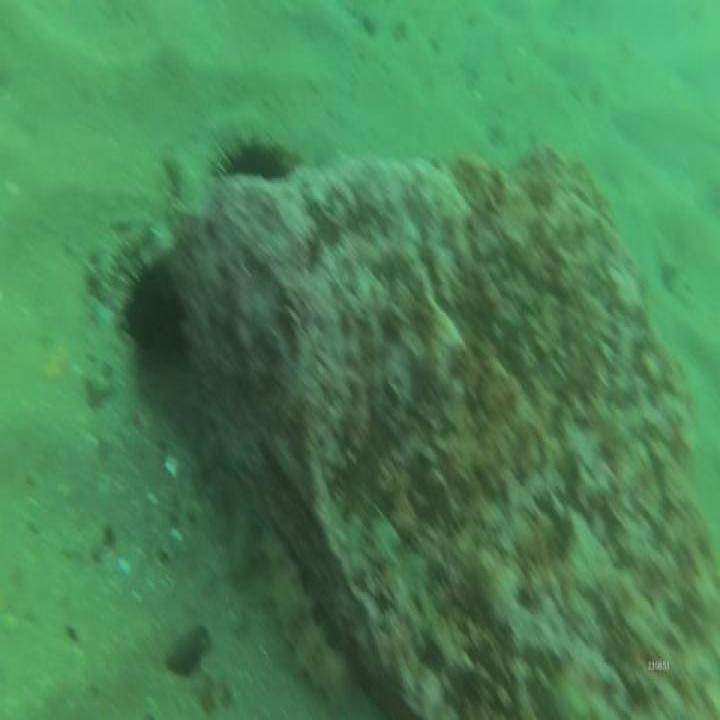echinus: (123, 252, 187, 368)
holothurian: (260, 519, 355, 708)
